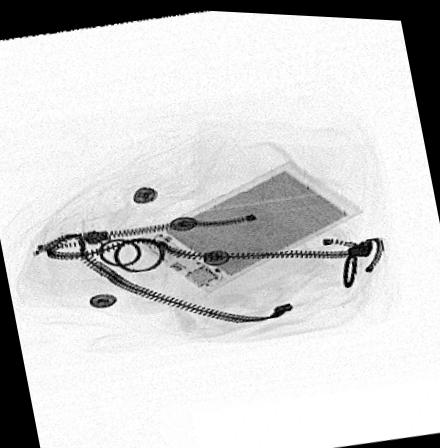Powerbank: (133, 155, 365, 291)
